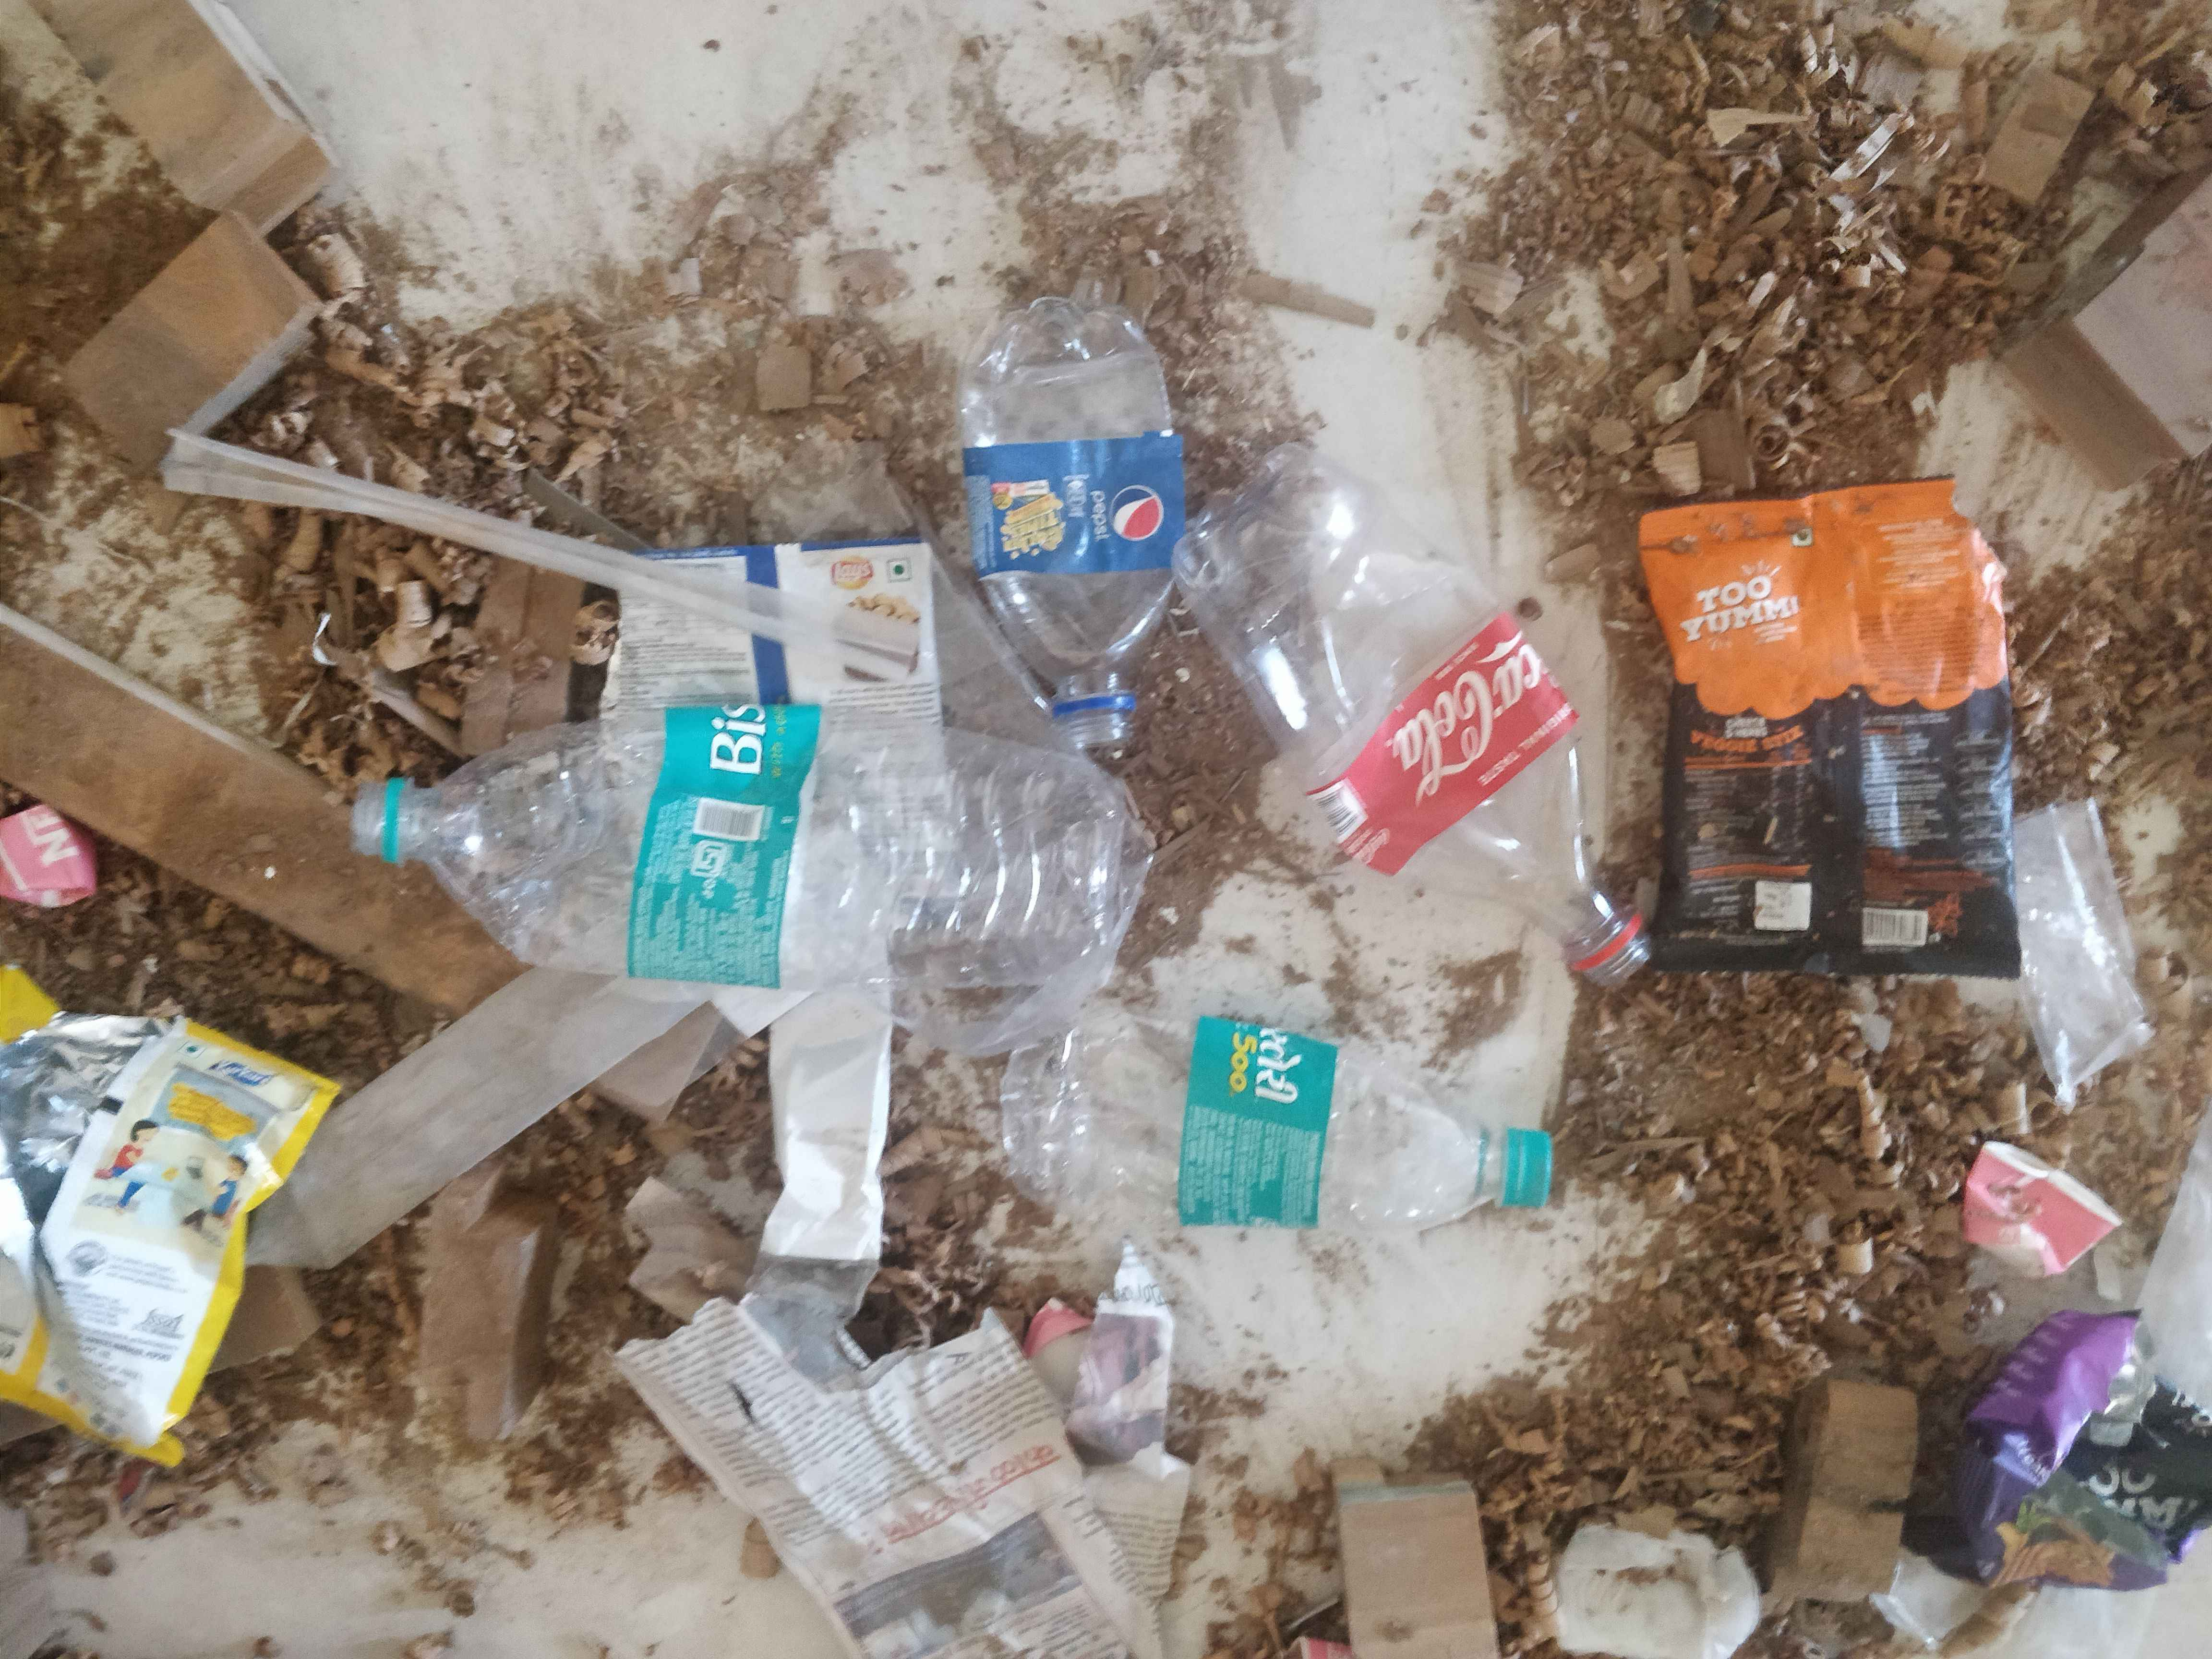Bisleri: (634, 692, 810, 990), (1198, 1012, 1325, 1234)
Coca-Cola: (1383, 631, 1554, 833)
Lays: (810, 547, 883, 598)
pepsi: (1040, 439, 1174, 573)
tooyumm: (2026, 1429, 2195, 1542), (1672, 552, 1818, 659)
